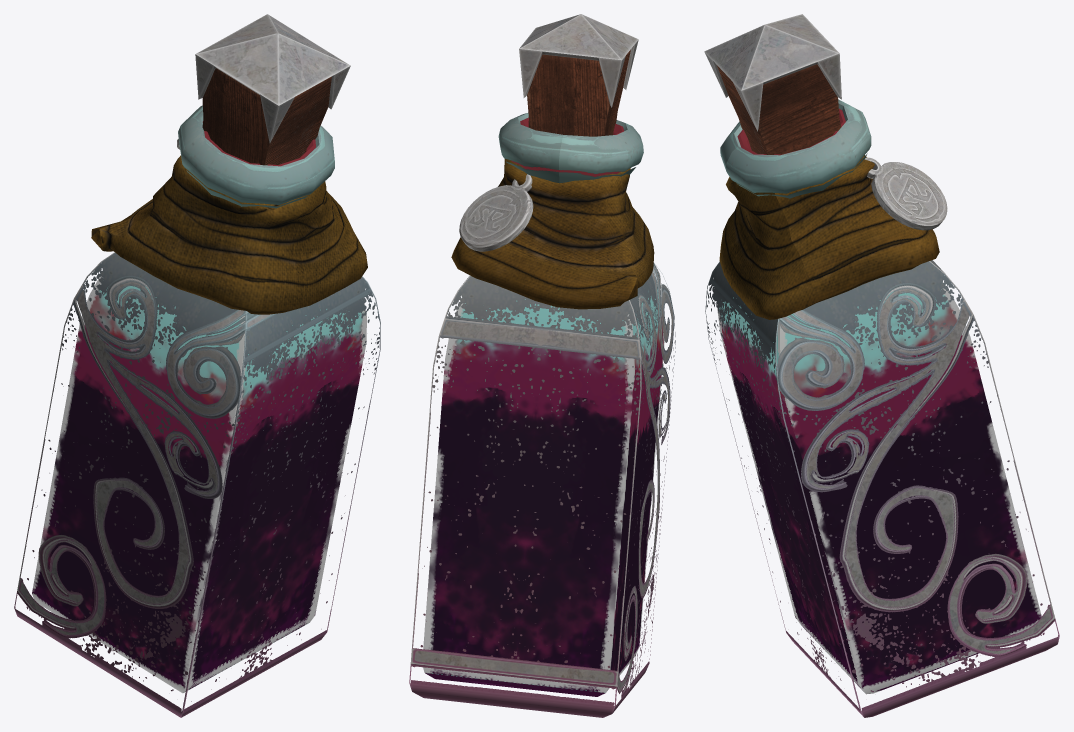
The model's file is potion.glb.
3 renders of one model, left to right at view 1: azimuth 30°, elevation 25°; view 2: azimuth 150°, elevation 25°; view 3: azimuth 270°, elevation 25°, orthographic. The views are drawn at different scales.
Parts seen in each view (by area): view 1: Object_3, Object_4; view 2: Object_4, Object_3, Object_2; view 3: Object_3, Object_4, Object_2.
Boxes of the visible parts, box(x1,y1,x2,y2) form: Object_3: box(14, 14, 380, 717); Object_4: box(32, 121, 366, 693); Object_4: box(423, 117, 664, 696); Object_3: box(409, 14, 675, 717); Object_2: box(459, 174, 533, 251); Object_3: box(704, 14, 1059, 717); Object_4: box(717, 108, 1041, 694); Object_2: box(865, 157, 947, 230).
Bounding box in the file's own units: 58.07 × 144 × 70.09.
Materials: 3 (3 with a texture image).
